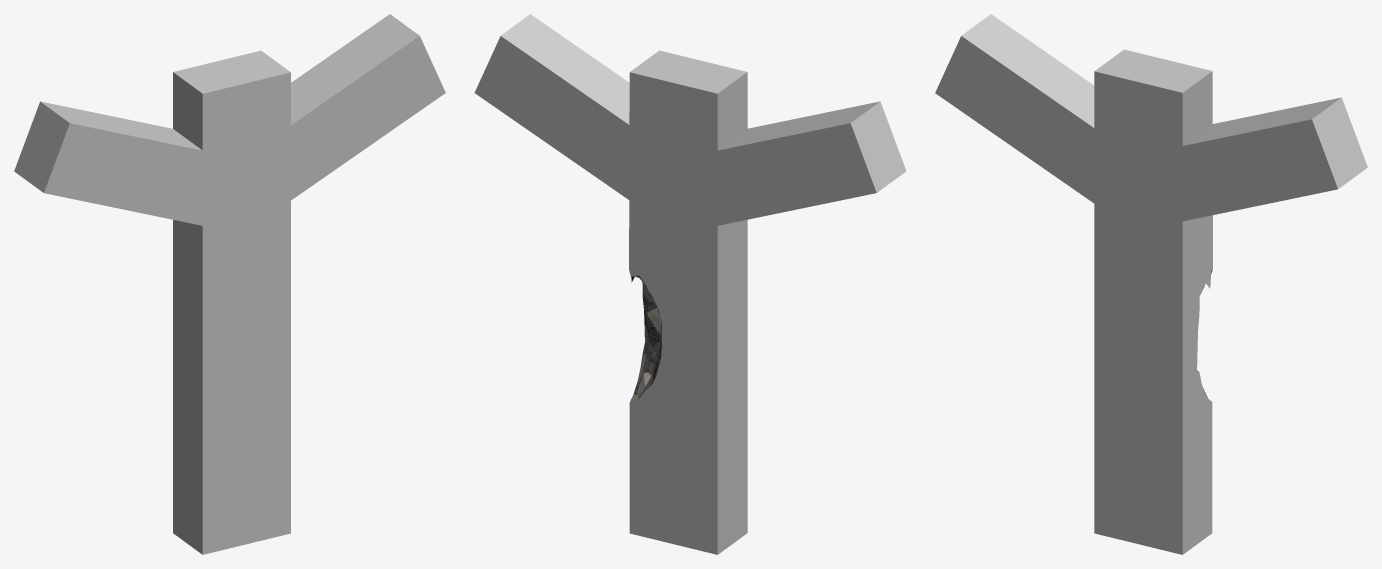
File: Saeule_mit_loch.fbx
3 views of the same model, side by side, from view 1: azimuth 30°, elevation 25°; view 2: azimuth 150°, elevation 25°; view 3: azimuth 330°, elevation 25° (orthographic).
Parts seen in each view (by area): view 1: Saule_Mitte; view 2: Saule_Mitte; view 3: Saule_Mitte.
Part boxes in pixels (x1,y1,x2,y2): Saule_Mitte: (14,14,445,554); Saule_Mitte: (474,14,906,554); Saule_Mitte: (935,14,1367,554).
Size of the model in its own units: 3130 by 3467 by 454.
